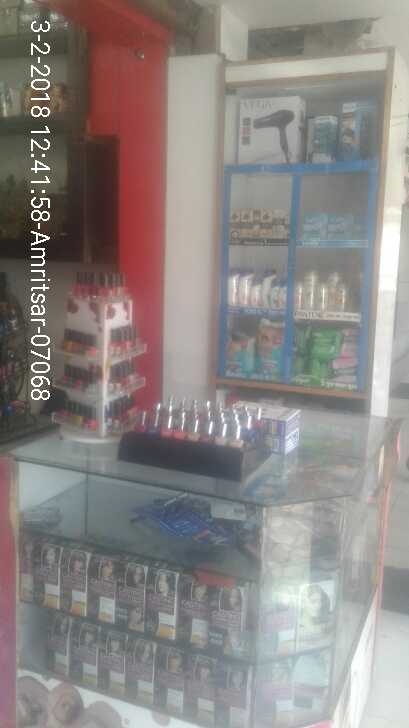venus: (328, 213, 354, 241), (305, 213, 328, 240), (354, 217, 369, 241)
